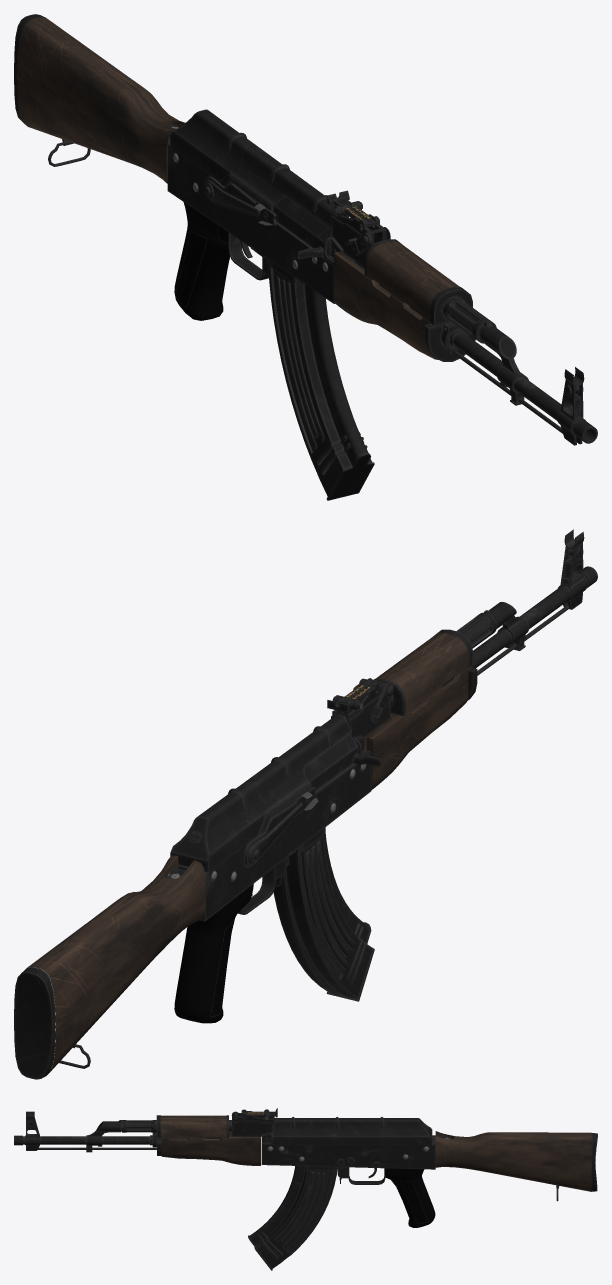
3 renders of one model, top to bottom at view 1: azimuth 30°, elevation 25°; view 2: azimuth 150°, elevation 25°; view 3: azimuth 270°, elevation 25°, orthographic. The views are drawn at different scales.
Parts seen in each view (by area): view 1: AK47; view 2: AK47; view 3: AK47.
Part boxes in pixels (x1,y1,x2,y2): AK47: [14, 14, 597, 500]; AK47: [14, 529, 597, 1079]; AK47: [14, 1108, 597, 1270].
Size of the model in its own units: 0.0663 by 0.26 by 0.88.
Materials: 1 (1 with a texture image).
